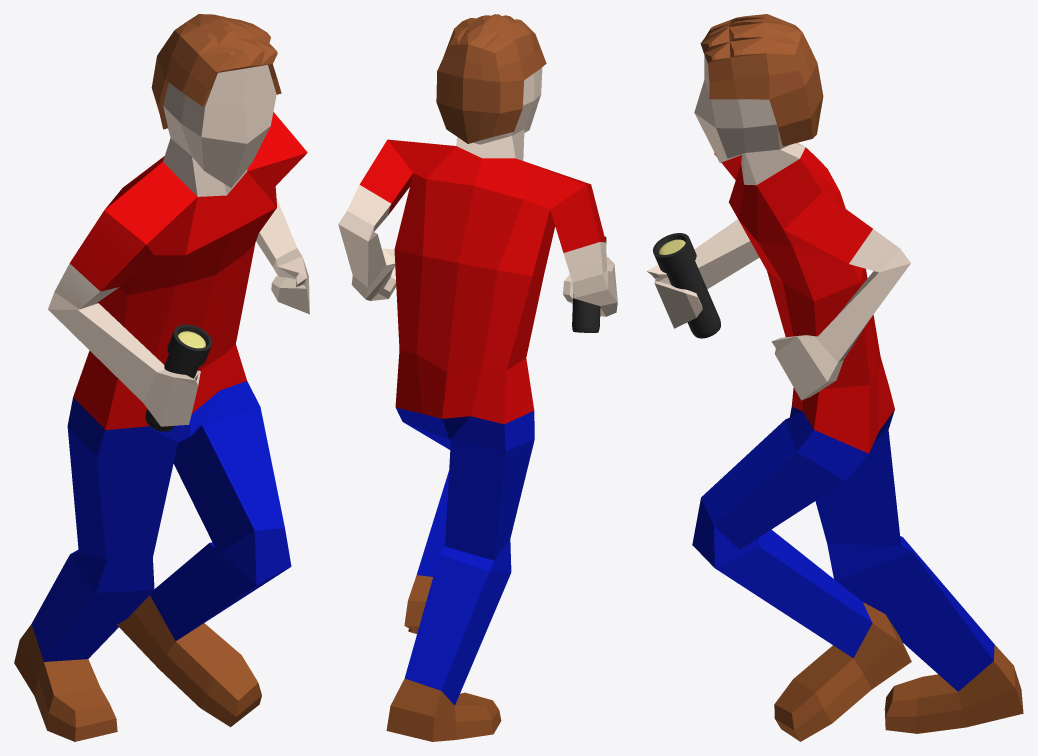
The model's file is Human_running_2.fbx.
3 renders of one model, left to right at view 1: azimuth 30°, elevation 25°; view 2: azimuth 150°, elevation 25°; view 3: azimuth 270°, elevation 25°, orthographic. The views are drawn at different scales.
Parts seen in each view (by area): view 1: Person.004, Flashlight; view 2: Person.004, Flashlight; view 3: Person.004, Flashlight.
Part boxes in pixels (<box>): Person.004: <box>14,14,309,741</box>; Flashlight: <box>145,324,212,431</box>; Person.004: <box>338,14,617,741</box>; Flashlight: <box>572,236,606,332</box>; Person.004: <box>647,14,1023,741</box>; Flashlight: <box>653,233,720,338</box>.
Size of the model in its own units: 0.5901 by 1.51 by 0.7114.
